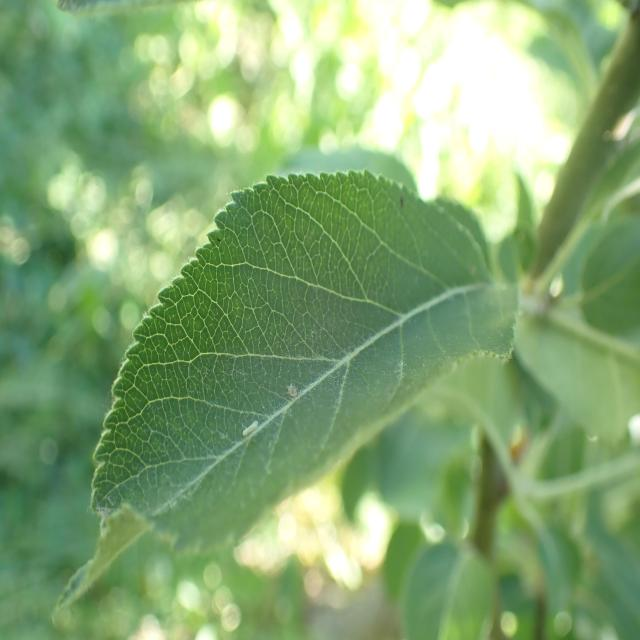healthy: (70, 170, 518, 607)
